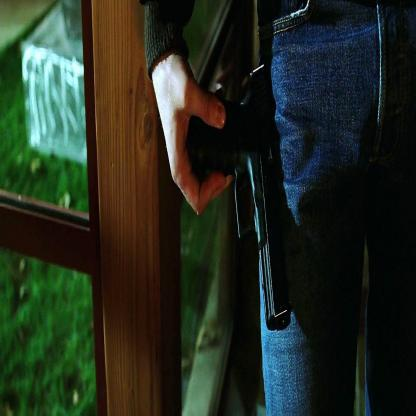gun: (180, 64, 302, 344)
